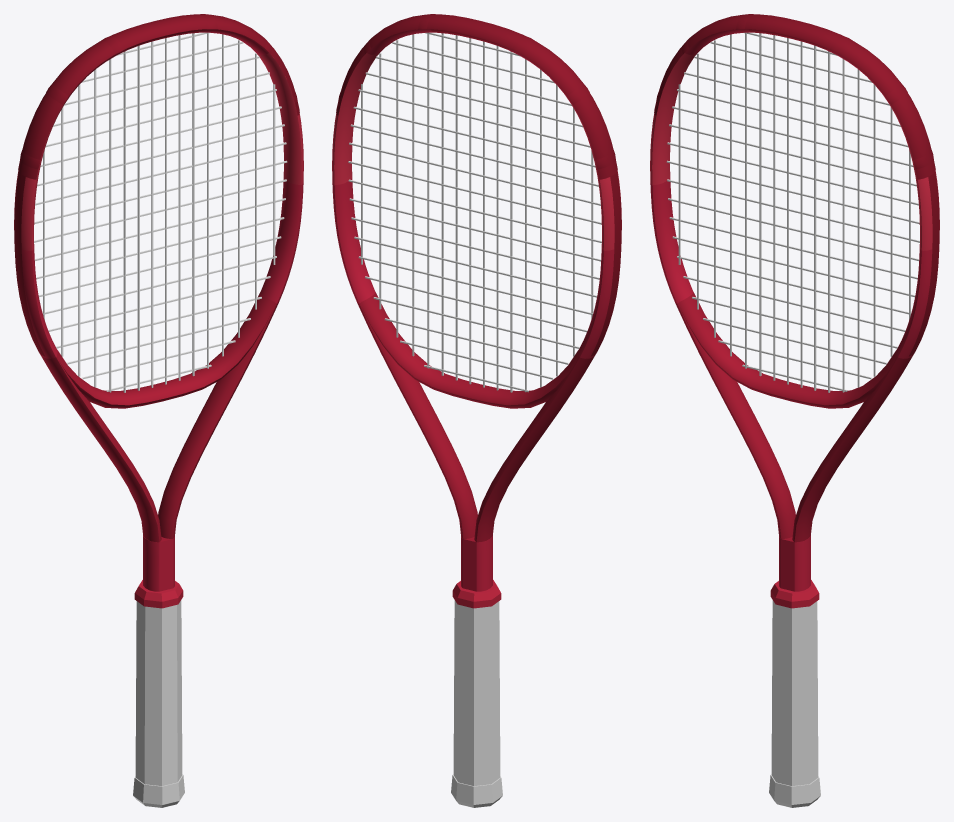
File: yonex-vcore-100-plus-2026.glb
The picture shows the model from 3 angles, left to right: view 1: azimuth 30°, elevation 25°; view 2: azimuth 150°, elevation 25°; view 3: azimuth 330°, elevation 25°; orthographic projection.
Parts seen in each view (by area): view 1: frame, strings_mains, strings_crosses, grip, bumper, grommets, butt_cap, collar; view 2: frame, strings_mains, strings_crosses, grip, bumper, grommets, butt_cap, collar; view 3: frame, strings_mains, strings_crosses, grip, bumper, grommets, butt_cap, collar.
Part boxes in pixels (x1=…): frame: x1=14, y1=29, x2=303, y2=591; strings_mains: x1=43, y1=32, x2=275, y2=392; strings_crosses: x1=34, y1=32, x2=287, y2=391; grip: x1=135, y1=600, x2=182, y2=786; bumper: x1=18, y1=14, x2=299, y2=179; grommets: x1=14, y1=172, x2=44, y2=356; butt_cap: x1=133, y1=774, x2=184, y2=807; collar: x1=134, y1=580, x2=183, y2=608; frame: x1=332, y1=29, x2=621, y2=591; strings_mains: x1=361, y1=33, x2=593, y2=392; strings_crosses: x1=348, y1=32, x2=601, y2=392; grip: x1=453, y1=600, x2=500, y2=786; bumper: x1=336, y1=14, x2=617, y2=179; grommets: x1=591, y1=172, x2=621, y2=356; butt_cap: x1=451, y1=774, x2=502, y2=807; collar: x1=452, y1=580, x2=501, y2=608; frame: x1=650, y1=29, x2=939, y2=591; strings_mains: x1=678, y1=32, x2=910, y2=392; strings_crosses: x1=666, y1=32, x2=919, y2=391; grip: x1=771, y1=600, x2=818, y2=786; bumper: x1=654, y1=14, x2=935, y2=179; grommets: x1=909, y1=172, x2=939, y2=356; butt_cap: x1=769, y1=774, x2=820, y2=807; collar: x1=770, y1=580, x2=819, y2=608.
Size of the model in its own units: 0.2676 by 0.6988 by 0.0396.
